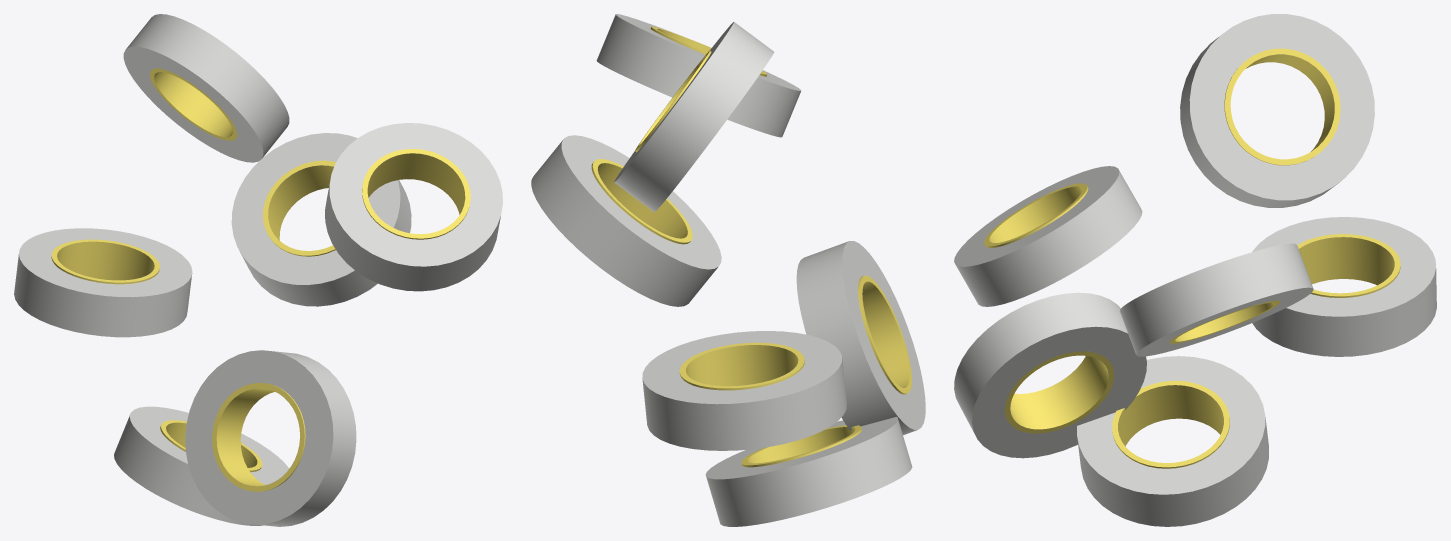
File: HID-INS-002_anim.glb
The picture shows the model from 3 angles, left to right: view 1: azimuth 30°, elevation 25°; view 2: azimuth 150°, elevation 25°; view 3: azimuth 270°, elevation 25°; orthographic projection. The views are drawn at different scales.
Visible parts, largest first — view 1: HID-INS-002_anim4, HID-INS-002_anim1, HID-INS-002_anim2, HID-INS-002_anim3, HID-INS-002_anim5, HID-INS-002_anim0; view 2: HID-INS-002_anim2, HID-INS-002_anim3, HID-INS-002_anim1, HID-INS-002_anim0, HID-INS-002_anim5, HID-INS-002_anim4; view 3: HID-INS-002_anim5, HID-INS-002_anim0, HID-INS-002_anim1, HID-INS-002_anim2, HID-INS-002_anim4, HID-INS-002_anim3.
Part boxes in pixels (box(x1,y1,x2,y2)): HID-INS-002_anim4: box(325, 123, 502, 291); HID-INS-002_anim1: box(185, 350, 356, 526); HID-INS-002_anim2: box(14, 228, 192, 337); HID-INS-002_anim3: box(231, 133, 411, 306); HID-INS-002_anim5: box(123, 14, 289, 162); HID-INS-002_anim0: box(114, 406, 289, 525); HID-INS-002_anim2: box(642, 331, 846, 450); HID-INS-002_anim3: box(531, 135, 721, 306); HID-INS-002_anim1: box(796, 241, 925, 435); HID-INS-002_anim0: box(705, 417, 912, 526); HID-INS-002_anim5: box(614, 22, 774, 212); HID-INS-002_anim4: box(596, 14, 801, 137); HID-INS-002_anim5: box(1180, 14, 1374, 207); HID-INS-002_anim0: box(1077, 356, 1268, 526); HID-INS-002_anim1: box(954, 292, 1146, 458); HID-INS-002_anim2: box(1252, 217, 1436, 356); HID-INS-002_anim4: box(954, 166, 1142, 306); HID-INS-002_anim3: box(1120, 243, 1313, 356).
Size of the model in its own units: 0.1047 by 0.1381 by 0.1224.
